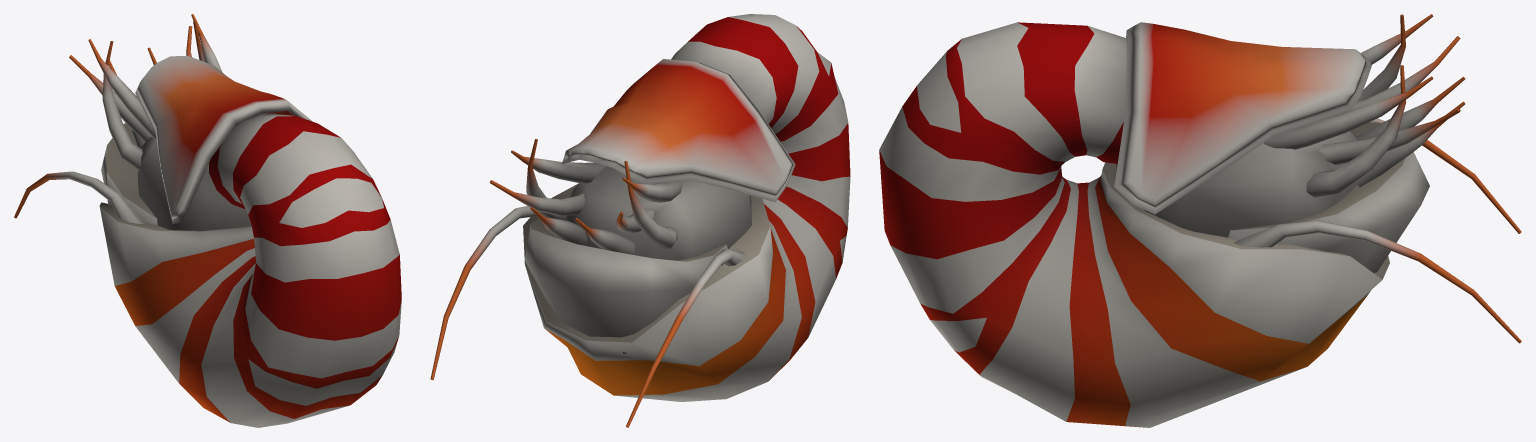
The model's file is underwater-sea-invertebrates-nautilus_v1.fbx.
3 views of the same model, side by side, from view 1: azimuth 30°, elevation 25°; view 2: azimuth 150°, elevation 25°; view 3: azimuth 270°, elevation 25° (orthographic). The views are drawn at different scales.
Parts seen in each view (by area): view 1: Nautilus; view 2: Nautilus; view 3: Nautilus.
Boxes of the visible parts, bbox=[...] form: Nautilus: bbox=[14, 14, 401, 427]; Nautilus: bbox=[430, 14, 850, 427]; Nautilus: bbox=[879, 14, 1521, 427].
Bounding box in the file's own units: 0.0898 × 0.1324 × 0.2.
